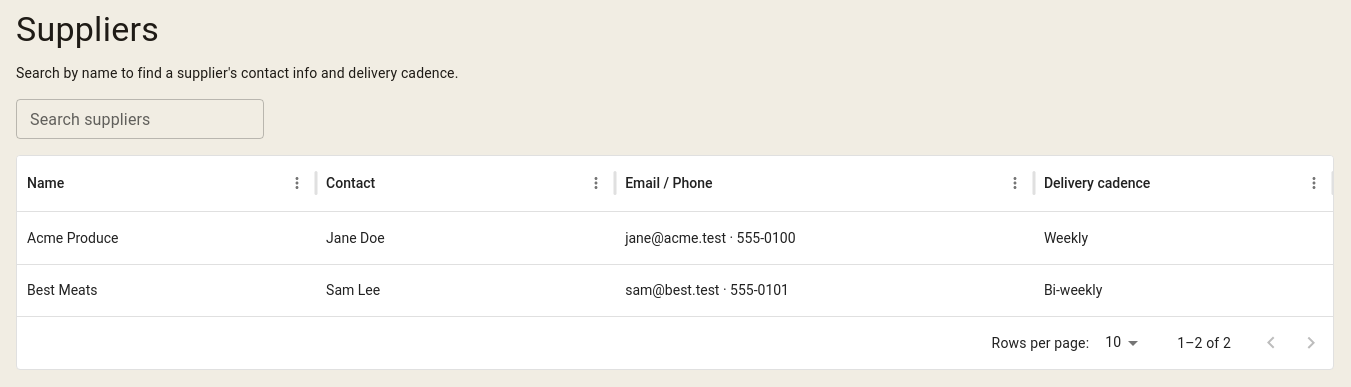
Test: SupplierDirectory › narrows rows when searching by name
Expected: the text "Acme Produce" is shown, [27, 230, 118, 246]
Step 1. Type "best" into the search field labelled "Search suppliers" → (140, 119), box [16, 99, 264, 139]
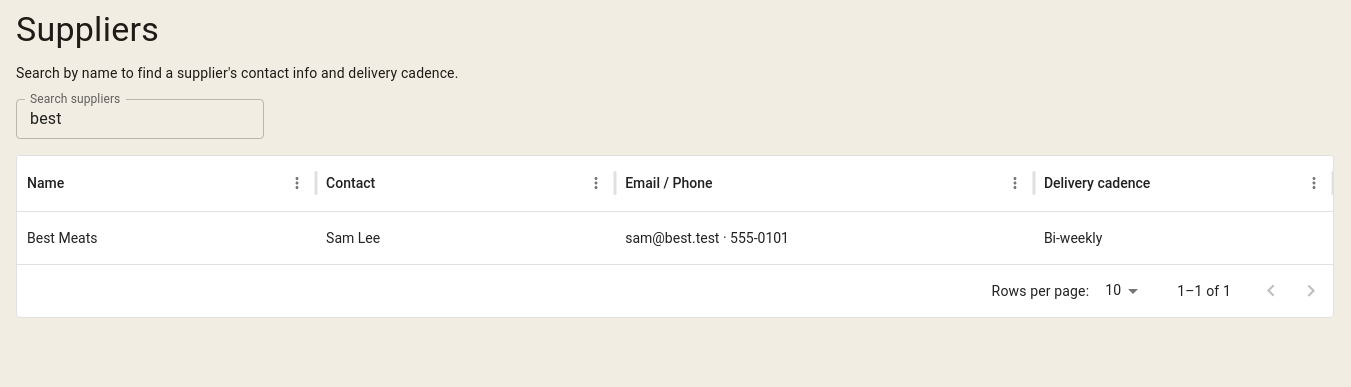
Expected: the text "Best Meats" is shown, [27, 230, 98, 246]
Now the text "Acme Produce" is gone
